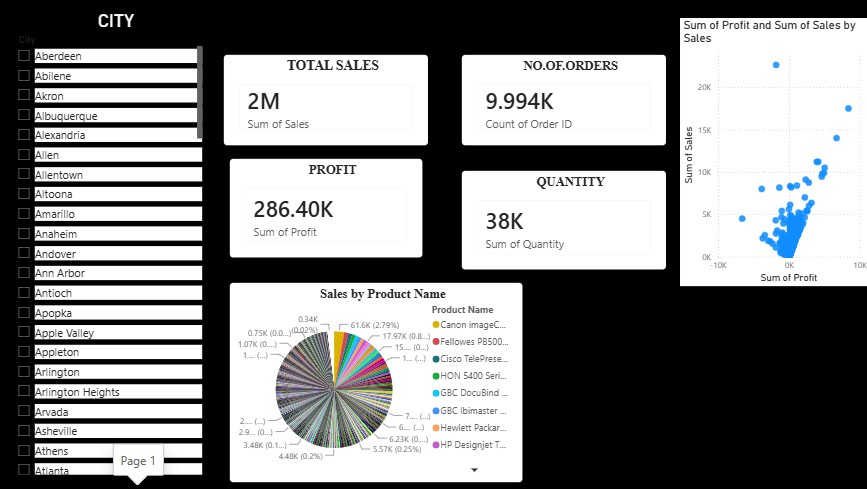

Layout of this report page (visuals, bound fields, positions):
{"tool":"powerbi","page":{"name":"Page 1","canvas":[1280,720],"ordinal":1},"visuals":[{"type":"cardVisual","title":"TOTAL SALES","fields":{"Data":["Sum(Sample - Superstore.Sales)"]},"box":[320.3,72,320.3,152.8],"z":0},{"type":"cardVisual","title":"PROFIT","fields":{"Data":["Sum(Sample - Superstore.Profit)"]},"box":[329.1,224.8,302.7,164.6],"z":1000},{"type":"cardVisual","title":"NO.OF.ORDERS","fields":{"Data":["CountNonNull(Sample - Superstore.Order ID)"]},"box":[670,72,320.3,152.8],"z":2000},{"type":"slicer","title":"CITY","fields":{"Values":["Sample - Superstore.City"]},"box":[0,0,320.3,720],"z":3000},{"type":"pieChart","title":"Sales by Product Name","fields":{"Category":["Sample - Superstore.Product Name"],"Y":["Sum(Sample - Superstore.Sales)"]},"box":[329.1,407,449.6,313],"z":4000},{"type":"cardVisual","title":"QUANTITY","fields":{"Data":["Sum(Sample - Superstore.Quantity)"]},"box":[670,242,320,165],"z":5000},{"type":"scatterChart","fields":{"Category":["Sample - Superstore.Sales"],"X":["Sum(Sample - Superstore.Profit)"],"Y":["Sum(Sample - Superstore.Sales)"]},"box":[1000.6,72.8,279.4,394.5],"z":6000}]}

Visuals, with their boxes in screenshot pixels (x1, y1, x2, y2), scaled from the page's 1280x720 canvas onto the 867x489 screenshot:
"TOTAL SALES" cardVisual: <box>217,49,434,153</box>
"PROFIT" cardVisual: <box>223,153,428,264</box>
"NO.OF.ORDERS" cardVisual: <box>454,49,671,153</box>
"CITY" slicer: <box>0,0,217,488</box>
"Sales by Product Name" pieChart: <box>223,276,527,488</box>
"QUANTITY" cardVisual: <box>454,164,671,276</box>
scatterChart - Sample - Superstore.Sales x Sum(Sample - Superstore.Profit): <box>678,49,866,317</box>
